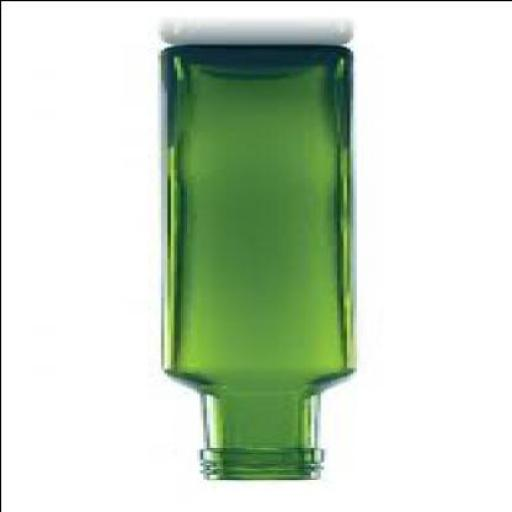glass: (156, 40, 360, 478)
